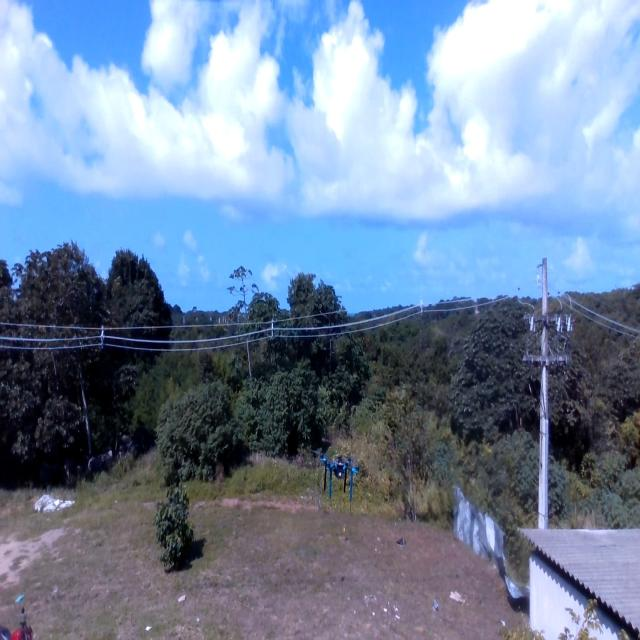-uav-: (308, 433, 370, 516)
